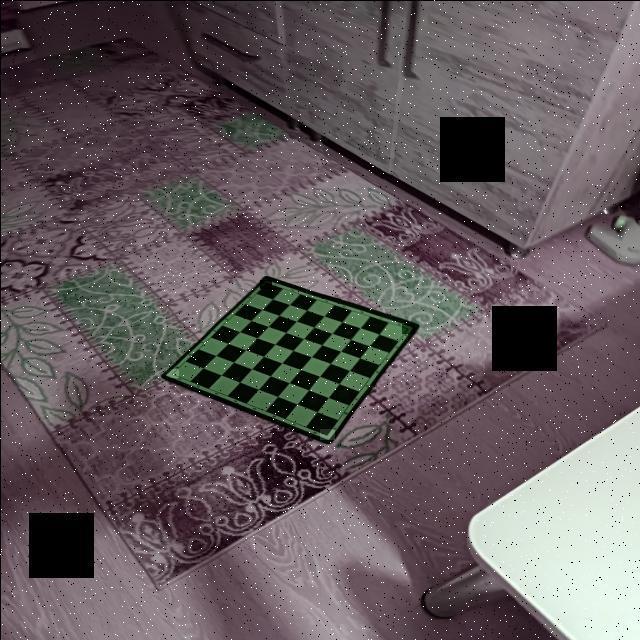chess-table-corners: (319, 428, 334, 439), (401, 323, 414, 333), (165, 368, 178, 377), (259, 279, 271, 288)
